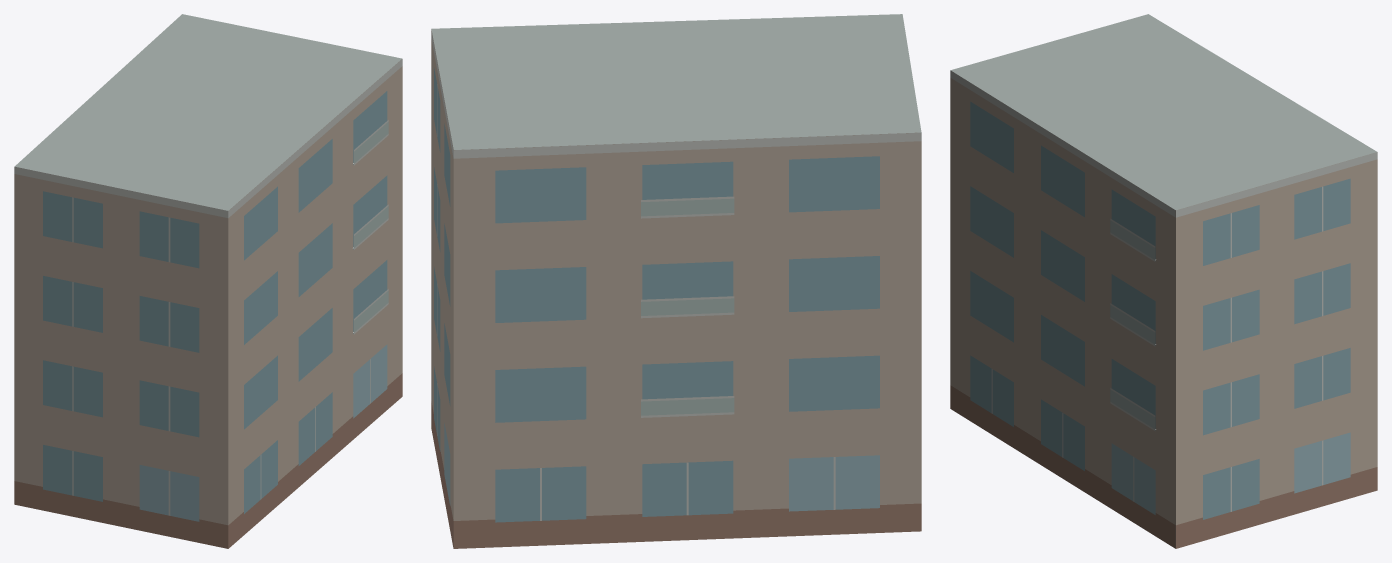
The model's file is survey-upis-32666071.glb.
The picture shows the model from 3 angles, left to right: view 1: azimuth 30°, elevation 25°; view 2: azimuth 150°, elevation 25°; view 3: azimuth 270°, elevation 25°; orthographic projection. The views are drawn at different scales.
Visible parts, largest first — view 1: survey-upis-32666071.tmp; view 2: survey-upis-32666071.tmp; view 3: survey-upis-32666071.tmp.
Part boxes in pixels (box(x1,y1,x2,y2)): survey-upis-32666071.tmp: box(14, 14, 402, 548); survey-upis-32666071.tmp: box(431, 14, 921, 548); survey-upis-32666071.tmp: box(950, 14, 1377, 548).
Bounding box in the file's own units: 13.98 × 11.23 × 12.85.
